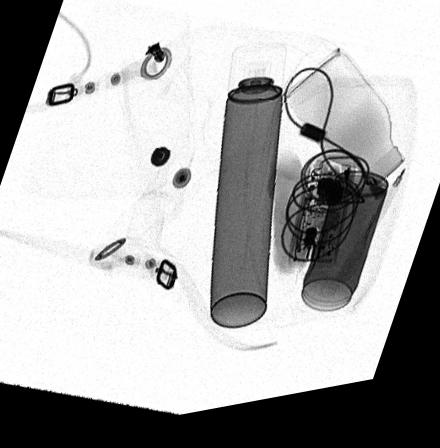Sprayer: (210, 52, 286, 339)
